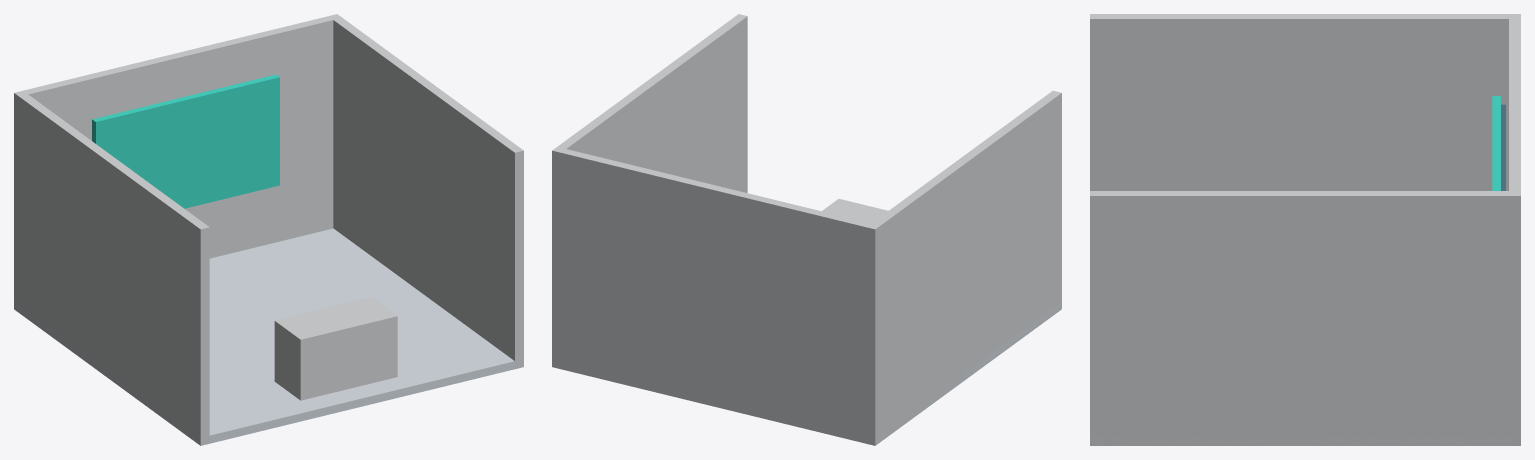
3 views of the same model, side by side, from view 1: azimuth 30°, elevation 25°; view 2: azimuth 150°, elevation 25°; view 3: azimuth 270°, elevation 25° (orthographic). The views are drawn at different scales.
Parts seen in each view (by area): view 1: Exhibition Booth Concept; view 2: Exhibition Booth Concept; view 3: Exhibition Booth Concept.
Boxes of the visible parts, x1,y1,x2,y2 form: Exhibition Booth Concept: (14, 14, 523, 445); Exhibition Booth Concept: (552, 14, 1061, 445); Exhibition Booth Concept: (1090, 14, 1520, 445).
Size of the model in its own units: 5 by 3.2 by 5.
